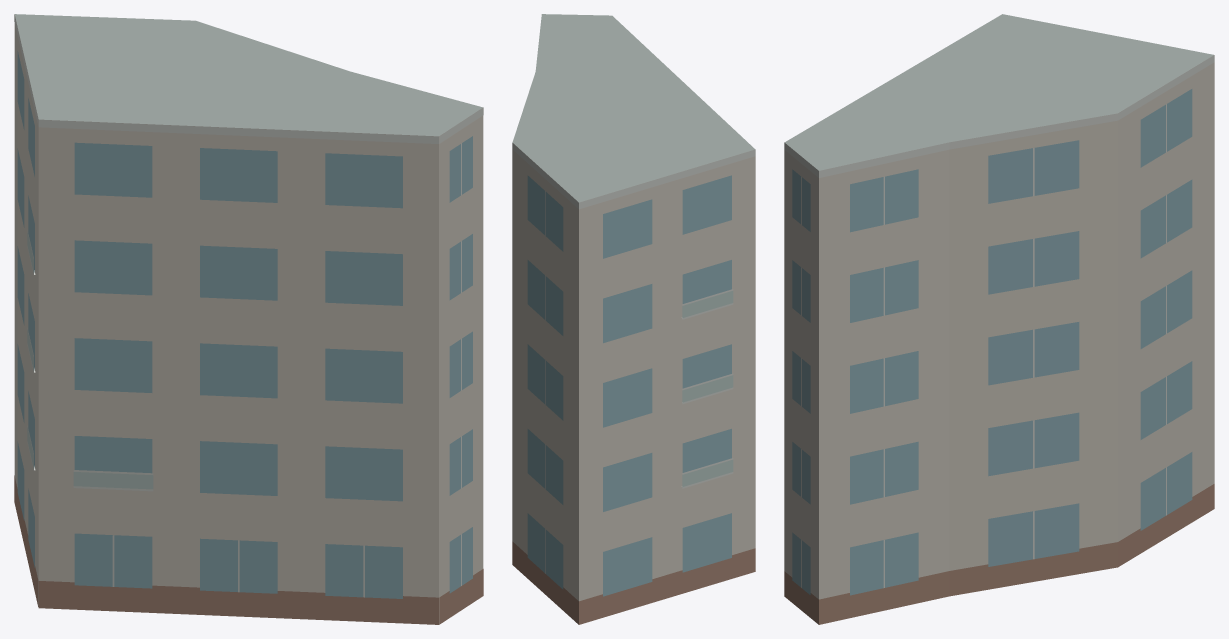
Rendered from survey-upis-32777317.glb.
3 renders of one model, left to right at view 1: azimuth 30°, elevation 25°; view 2: azimuth 150°, elevation 25°; view 3: azimuth 270°, elevation 25°, orthographic. The views are drawn at different scales.
Parts seen in each view (by area): view 1: survey-upis-32777317.tmp; view 2: survey-upis-32777317.tmp; view 3: survey-upis-32777317.tmp.
Boxes of the visible parts, x1=… form: survey-upis-32777317.tmp: x1=14, y1=14, x2=483, y2=624; survey-upis-32777317.tmp: x1=512, y1=14, x2=755, y2=624; survey-upis-32777317.tmp: x1=784, y1=14, x2=1214, y2=624.
Bounding box in the file's own units: 11.31 × 15.25 × 13.1.
